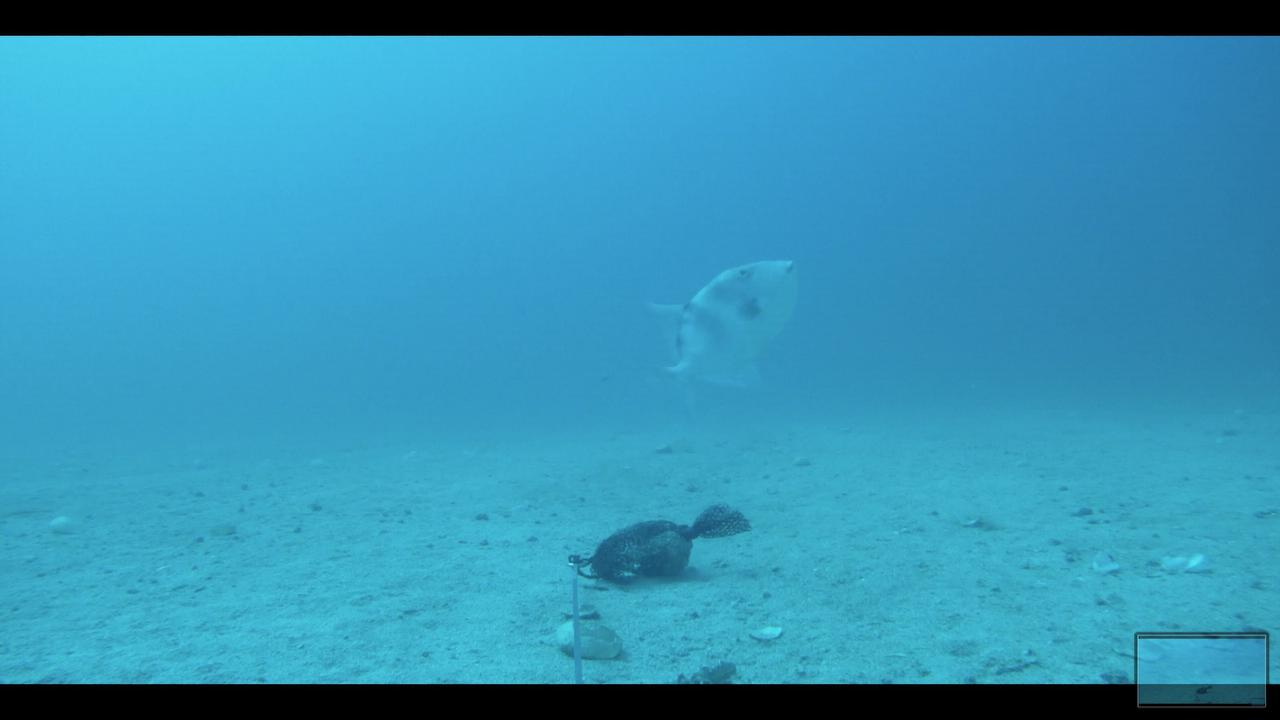balistes: (623, 251, 800, 427)
